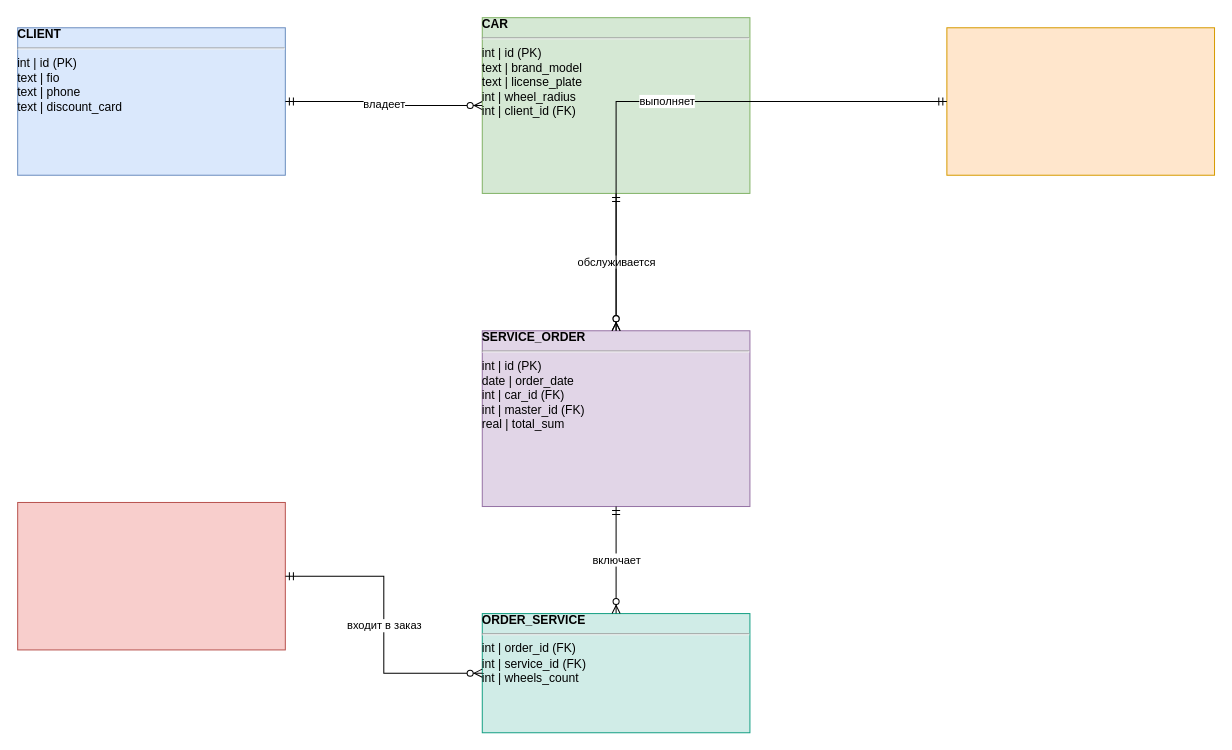
Image size: 1232x750. Some labels were removed from this diagram. The shapes that lost their labels are listed below. From the top down, each one's centre as x and y in pixels, then its label:
At [1080,101]: "MASTER int | id (PK) text | fio text | phone int | experience".
At [151,575]: "SERVICE int | id (PK) text | service_name real | price int | duration_min".
